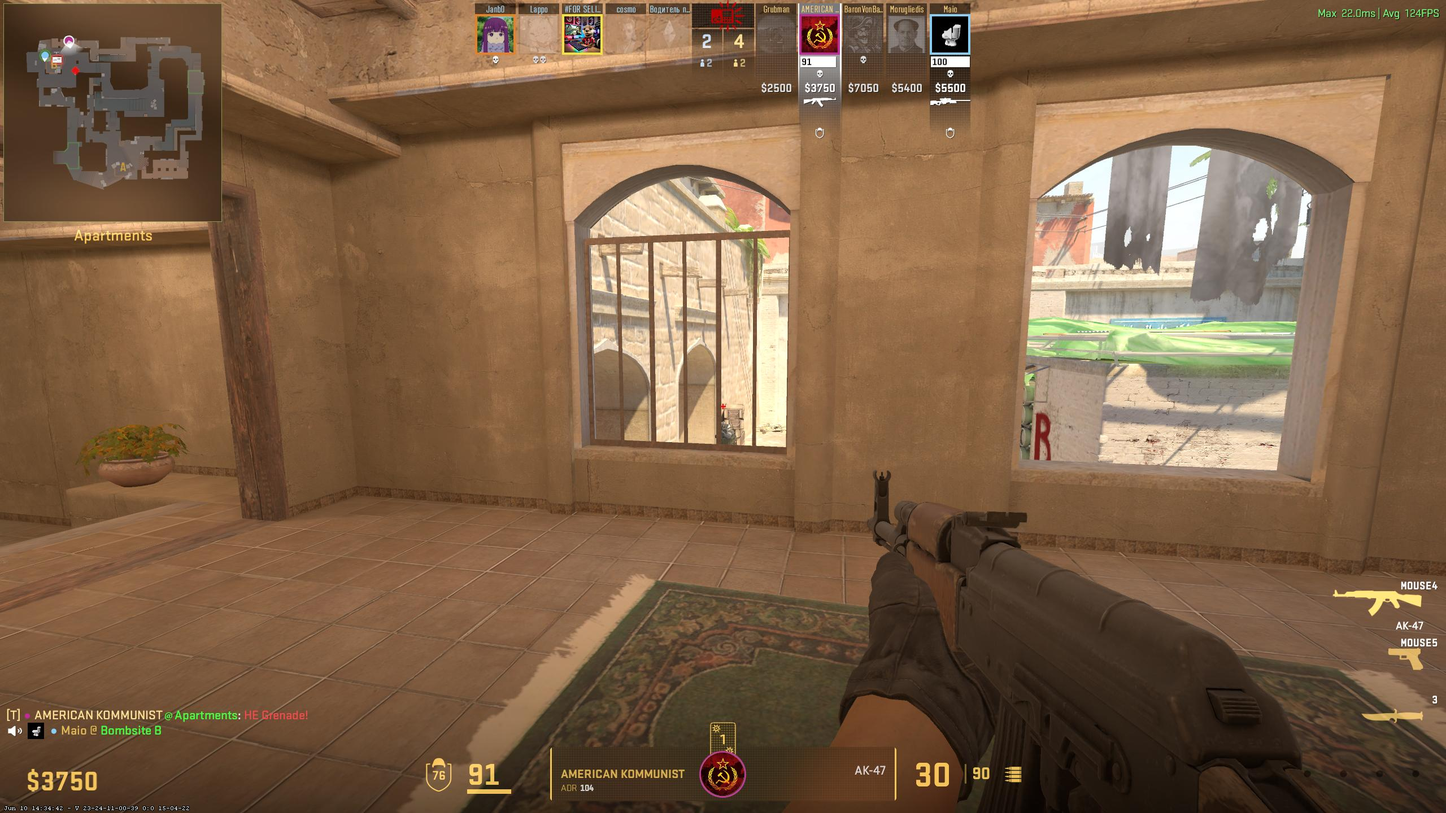CT: (716, 422, 739, 445)
